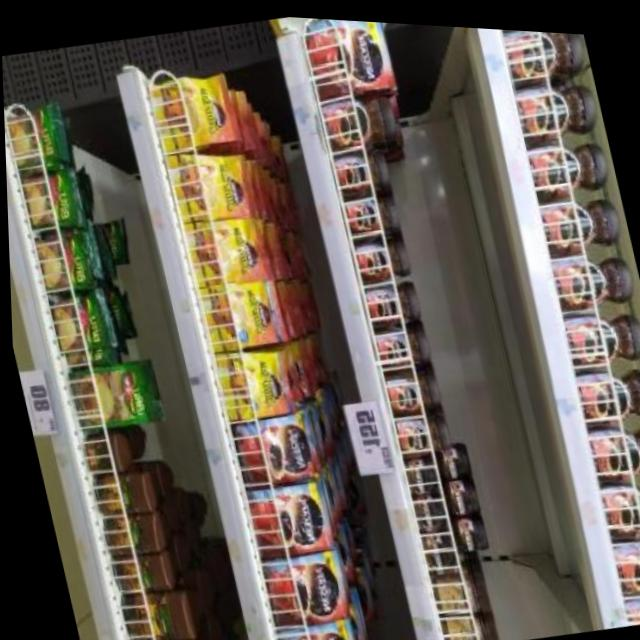Coffee: (145, 68, 238, 154), (163, 145, 249, 226), (255, 547, 342, 627), (306, 14, 393, 93), (197, 276, 285, 353), (240, 475, 323, 555), (511, 66, 600, 140), (547, 236, 636, 309), (178, 213, 262, 290), (536, 179, 624, 252), (524, 125, 611, 197), (227, 408, 307, 482), (558, 294, 640, 366), (317, 83, 399, 153), (212, 346, 284, 420), (501, 23, 586, 81), (571, 353, 640, 421), (582, 409, 640, 482), (365, 317, 430, 375), (347, 228, 409, 284), (356, 275, 420, 328), (376, 364, 439, 416), (329, 144, 389, 197), (339, 186, 399, 239), (386, 405, 447, 456), (595, 467, 640, 535), (604, 519, 640, 591), (267, 612, 350, 640), (416, 526, 457, 570), (408, 485, 444, 530), (433, 438, 469, 480), (441, 472, 477, 514), (449, 509, 486, 549), (398, 447, 434, 487), (616, 578, 640, 620)
